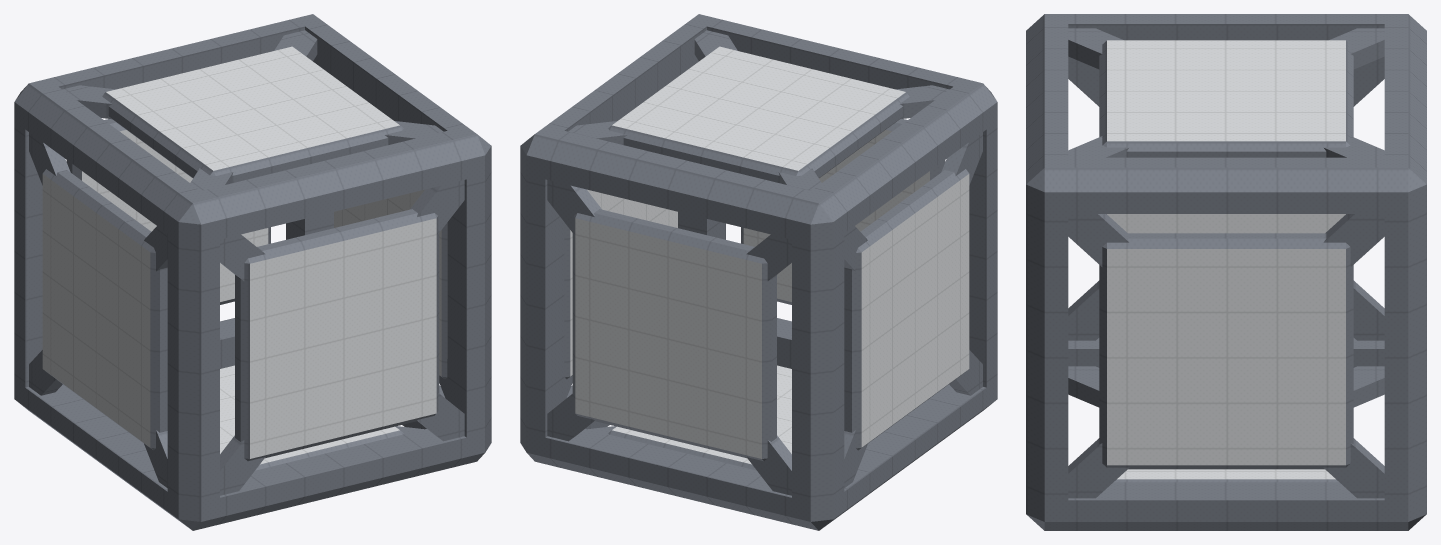
The model's file is R4B_TrussCube_LOD1.glb.
3 renders of one model, left to right at view 1: azimuth 30°, elevation 25°; view 2: azimuth 150°, elevation 25°; view 3: azimuth 270°, elevation 25°, orthographic. The views are drawn at different scales.
Parts seen in each view (by area): view 1: R4B_TrussCube_LOD1; view 2: R4B_TrussCube_LOD1; view 3: R4B_TrussCube_LOD1.
Part boxes in pixels (box(x1,y1,x2,y2)): R4B_TrussCube_LOD1: box(14, 14, 491, 530); R4B_TrussCube_LOD1: box(520, 14, 997, 530); R4B_TrussCube_LOD1: box(1026, 14, 1426, 530).
Bounding box in the file's own units: 0.52 × 0.52 × 0.52.
2 materials, 2 textured.
